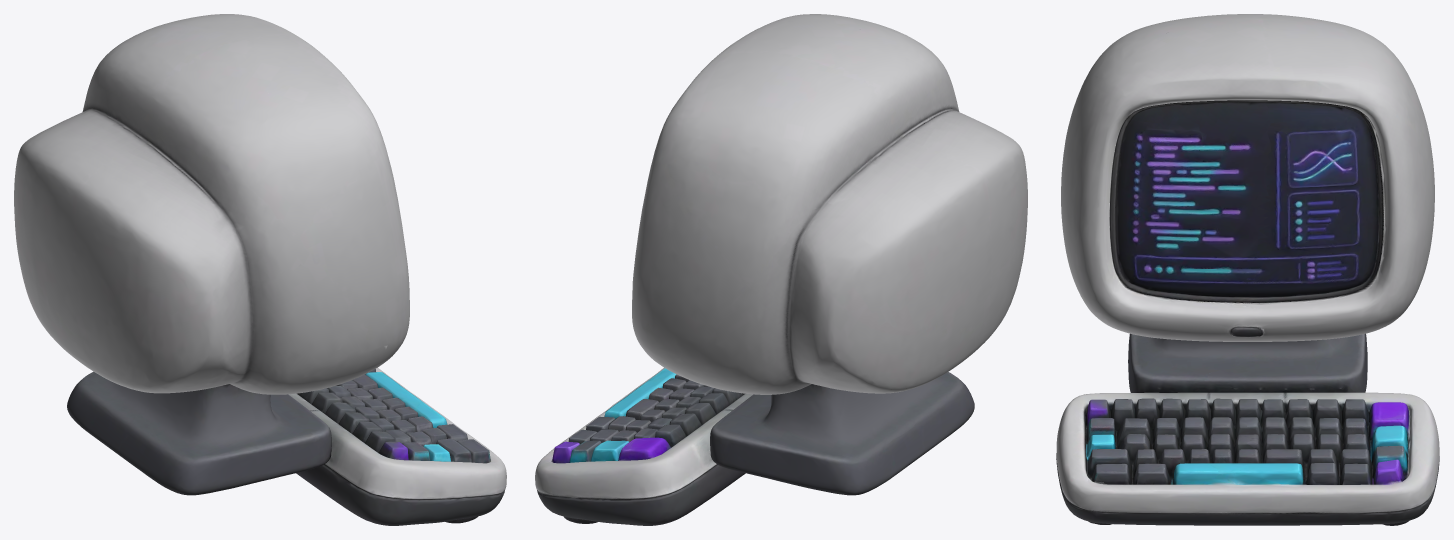
The model's file is terminal.glb.
The picture shows the model from 3 angles, left to right: view 1: azimuth 30°, elevation 25°; view 2: azimuth 150°, elevation 25°; view 3: azimuth 270°, elevation 25°; orthographic projection. The views are drawn at different scales.
Parts seen in each view (by area): view 1: tripo_node_b64672f9-cec4-45b9-8349-ad7aaeeceaee; view 2: tripo_node_b64672f9-cec4-45b9-8349-ad7aaeeceaee; view 3: tripo_node_b64672f9-cec4-45b9-8349-ad7aaeeceaee.
Boxes of the visible parts, x1,y1,x2,y2 form: tripo_node_b64672f9-cec4-45b9-8349-ad7aaeeceaee: [14, 14, 506, 525]; tripo_node_b64672f9-cec4-45b9-8349-ad7aaeeceaee: [535, 14, 1027, 525]; tripo_node_b64672f9-cec4-45b9-8349-ad7aaeeceaee: [1056, 14, 1439, 525].
Bounding box in the file's own units: 0.852 × 1 × 0.8223.
1 material, 1 textured.
